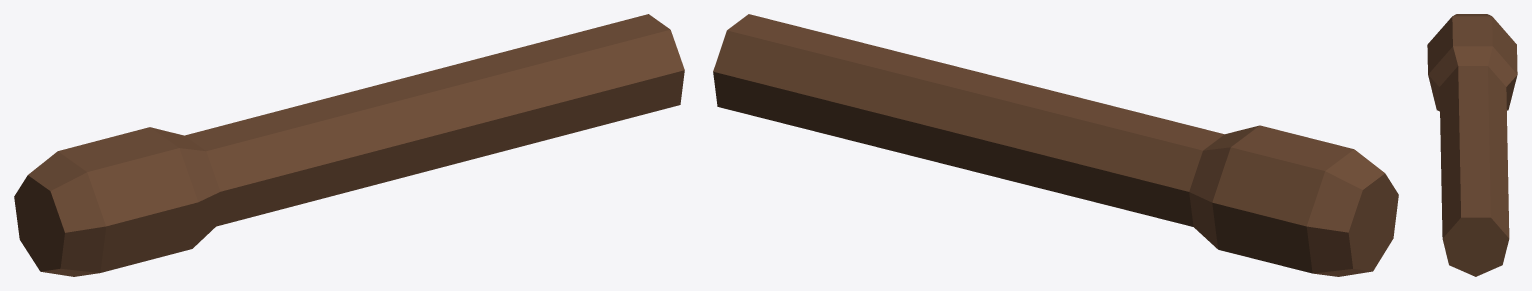
Rendered from Torch.fbx.
3 renders of one model, left to right at view 1: azimuth 30°, elevation 25°; view 2: azimuth 150°, elevation 25°; view 3: azimuth 270°, elevation 25°, orthographic. The views are drawn at different scales.
Parts seen in each view (by area): view 1: Pochodnia.001; view 2: Pochodnia.001; view 3: Pochodnia.001.
Part boxes in pixels (bbox=[...]): Pochodnia.001: bbox=[14, 14, 684, 276]; Pochodnia.001: bbox=[713, 14, 1398, 276]; Pochodnia.001: bbox=[1427, 14, 1517, 276].
Bounding box in the file's own units: 38.44 × 6.87 × 7.01.
1 material, 1 textured.
